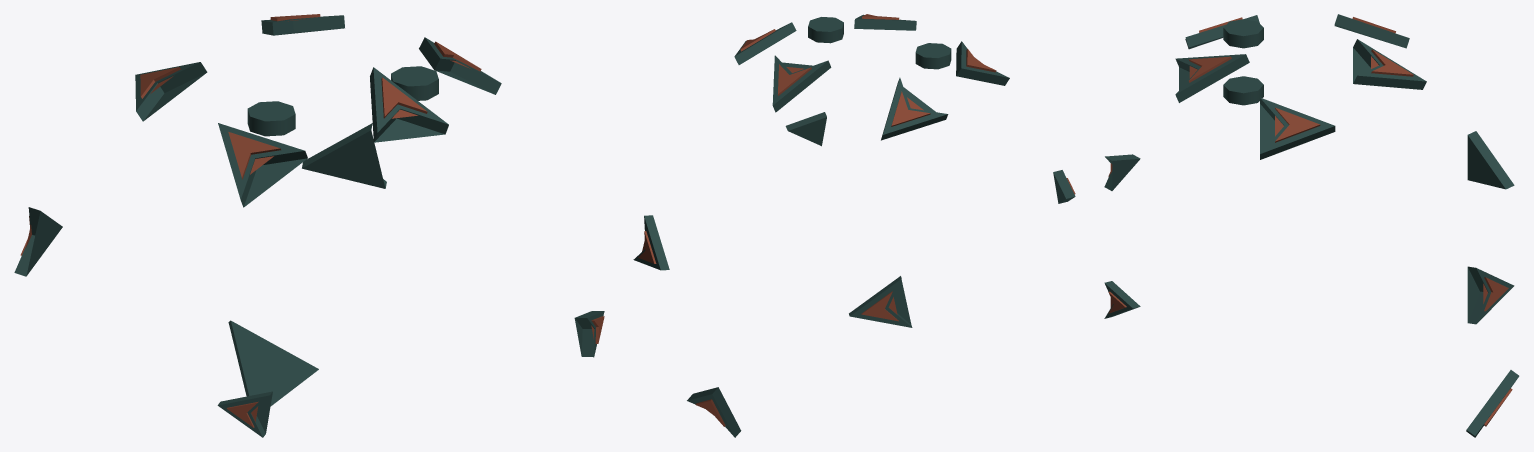
Rendered from shell_rivet_c4.glb.
The picture shows the model from 3 angles, left to right: view 1: azimuth 30°, elevation 25°; view 2: azimuth 150°, elevation 25°; view 3: azimuth 270°, elevation 25°; orthographic projection. The views are drawn at different scales.
Visible parts, largest first — view 1: Pod; view 2: Pod; view 3: Pod.
Boxes of the visible parts, box(x1,y1,x2,y2) form: Pod: box(14, 14, 604, 437); Pod: box(633, 14, 1075, 437); Pod: box(1104, 14, 1519, 437).
Bounding box in the file's own units: 1.35 × 1.55 × 1.54.
